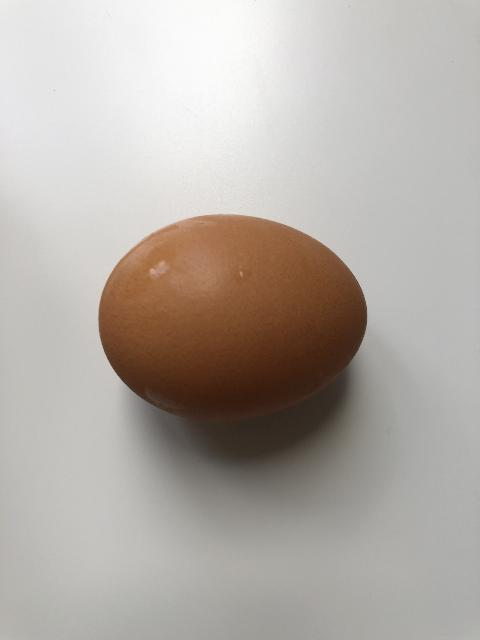Sano: (97, 212, 368, 423)
